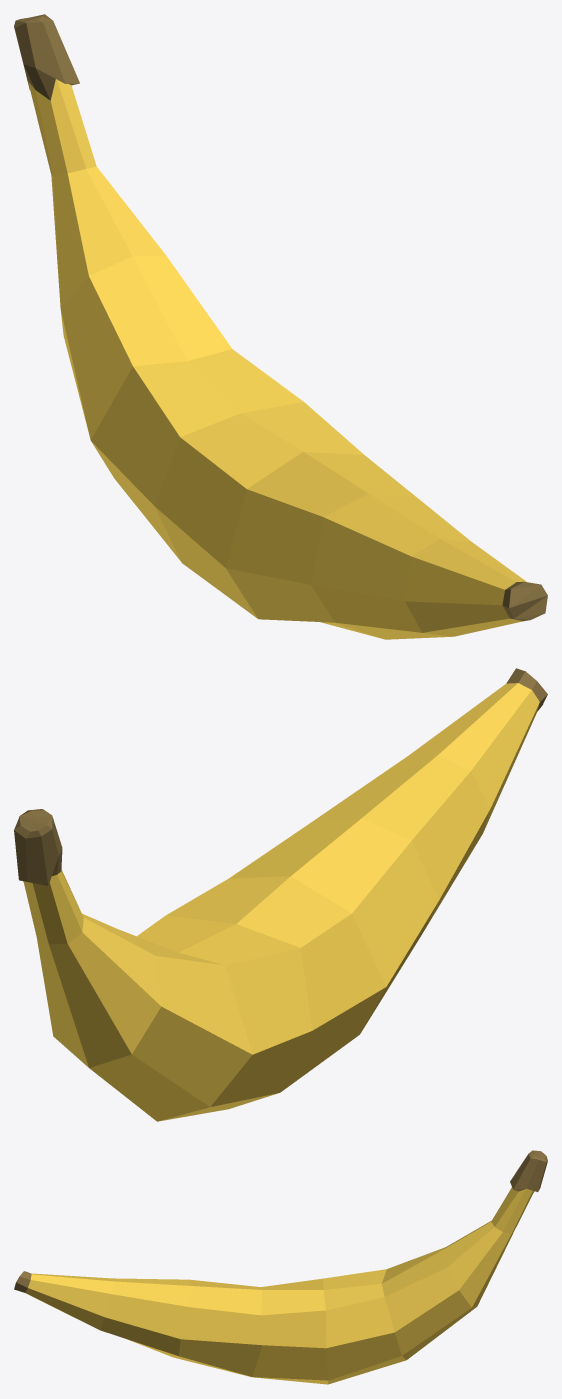
File: banana.fbx
The picture shows the model from 3 angles, top to bottom: view 1: azimuth 30°, elevation 25°; view 2: azimuth 150°, elevation 25°; view 3: azimuth 270°, elevation 25°; orthographic projection. The views are drawn at different scales.
Visible parts, largest first — view 1: BananaPart4, BananaPart5, BananaPart2, BananaPart3, BananaPart1, BananaPart6, BananaPart7; view 2: BananaPart1, BananaPart4, BananaPart2, BananaPart5, BananaPart3, BananaPart6, BananaPart7; view 3: BananaPart3, BananaPart4, BananaPart5, BananaPart2, BananaPart1, BananaPart6, BananaPart7.
Part boxes in pixels (x1,y1,x2,y2): BananaPart4: [154, 402, 364, 618]; BananaPart5: [226, 451, 417, 639]; BananaPart2: [60, 255, 231, 439]; BananaPart3: [91, 349, 303, 562]; BananaPart1: [14, 14, 165, 307]; BananaPart6: [311, 493, 470, 639]; BananaPart7: [405, 539, 547, 636]; BananaPart1: [14, 809, 161, 1067]; BananaPart4: [166, 876, 386, 1092]; BananaPart2: [89, 929, 252, 1121]; BananaPart5: [229, 818, 438, 1032]; BananaPart3: [137, 915, 312, 1121]; BananaPart6: [313, 755, 490, 931]; BananaPart7: [408, 668, 547, 831]; BananaPart3: [323, 1269, 406, 1384]; BananaPart4: [252, 1278, 328, 1384]; BananaPart5: [173, 1279, 262, 1377]; BananaPart2: [382, 1247, 476, 1359]; BananaPart1: [442, 1150, 547, 1307]; BananaPart6: [100, 1278, 190, 1357]; BananaPart7: [14, 1271, 113, 1329].
Bounding box in the file's own units: 77.33 × 190 × 402.
